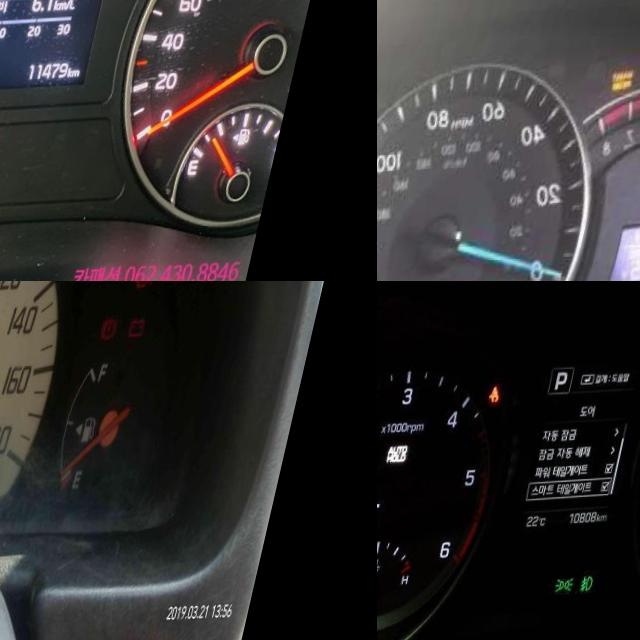FrontFogLight: (596, 577, 614, 596)
SideLamp: (573, 579, 593, 595)
